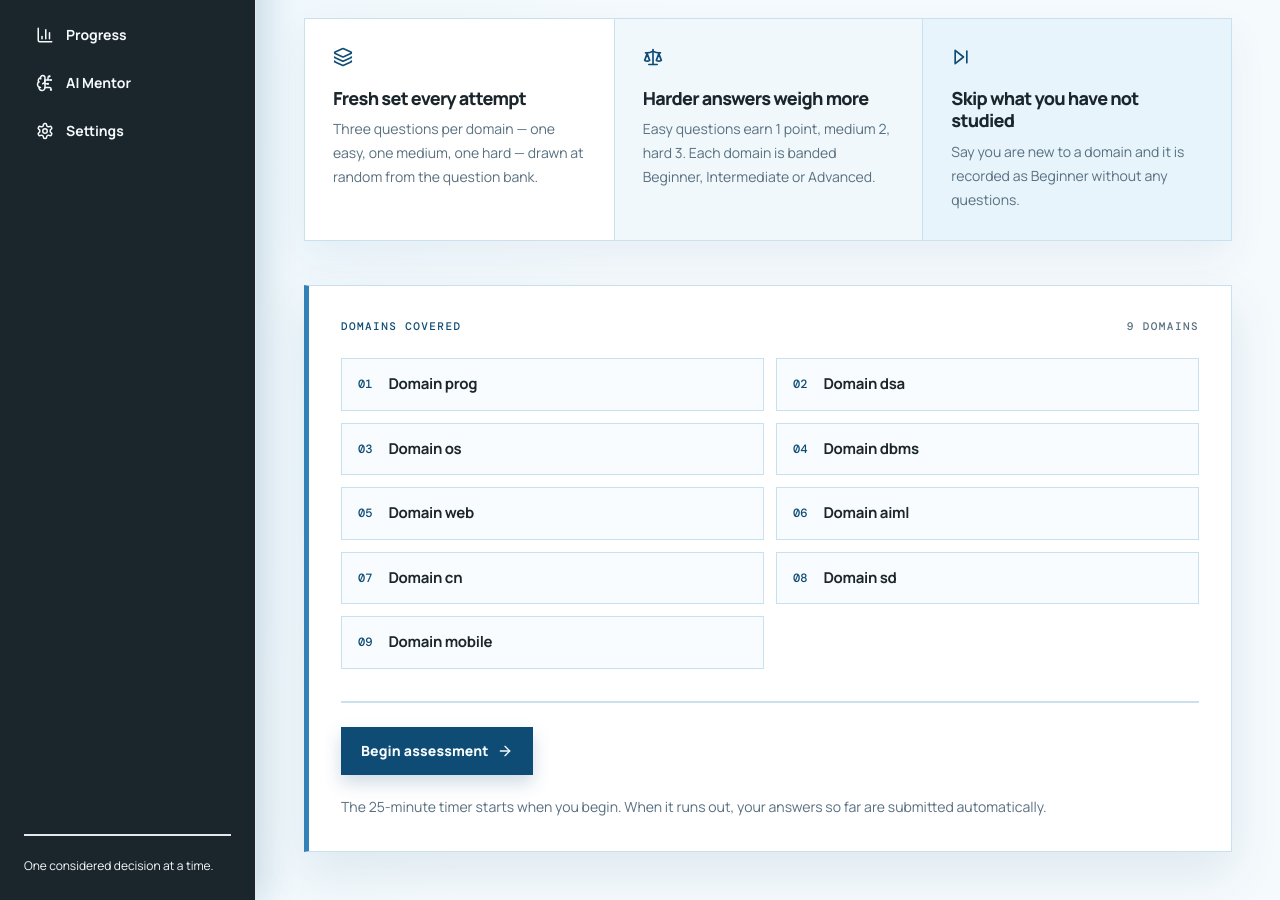
Test: assessment › opens with the nine domains and a 25 minute timer, and says nothing about the question bank
(page scrolled)
Click the button "Begin assessment" at (437, 750), box top-left (341, 726), bottom-right (533, 774)
Wait 500 ms
(page scrolled)
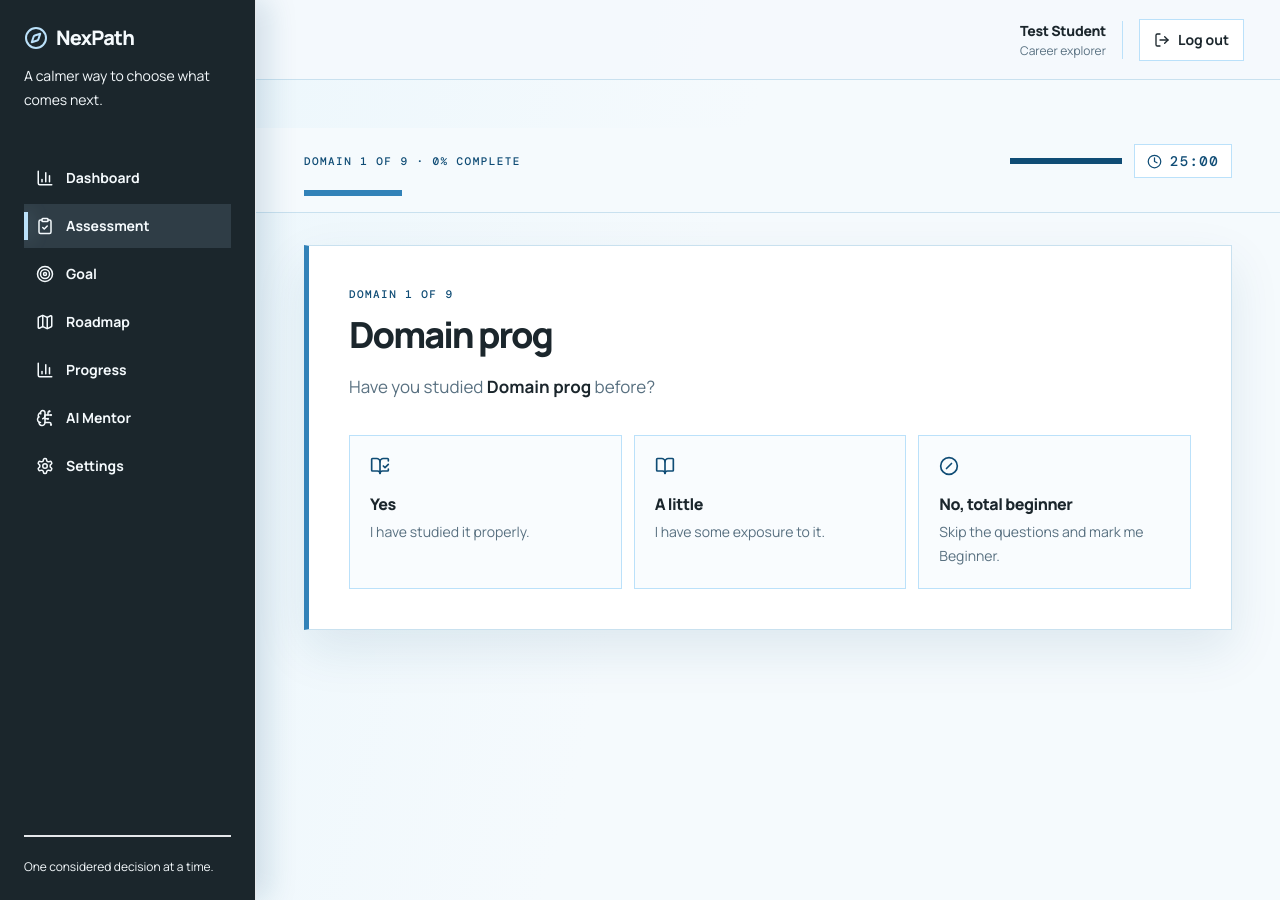
Now the element showing "25:00" is shown, box top-left (1134, 144), bottom-right (1232, 178)
Now the text "Domain 1 of 9 · 0% complete" is shown, box top-left (304, 153), bottom-right (521, 169)
